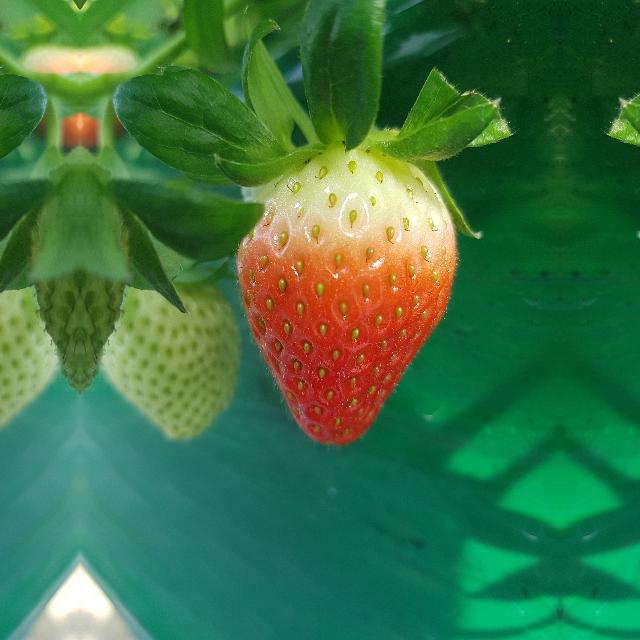Health_75: (235, 142, 457, 446)
